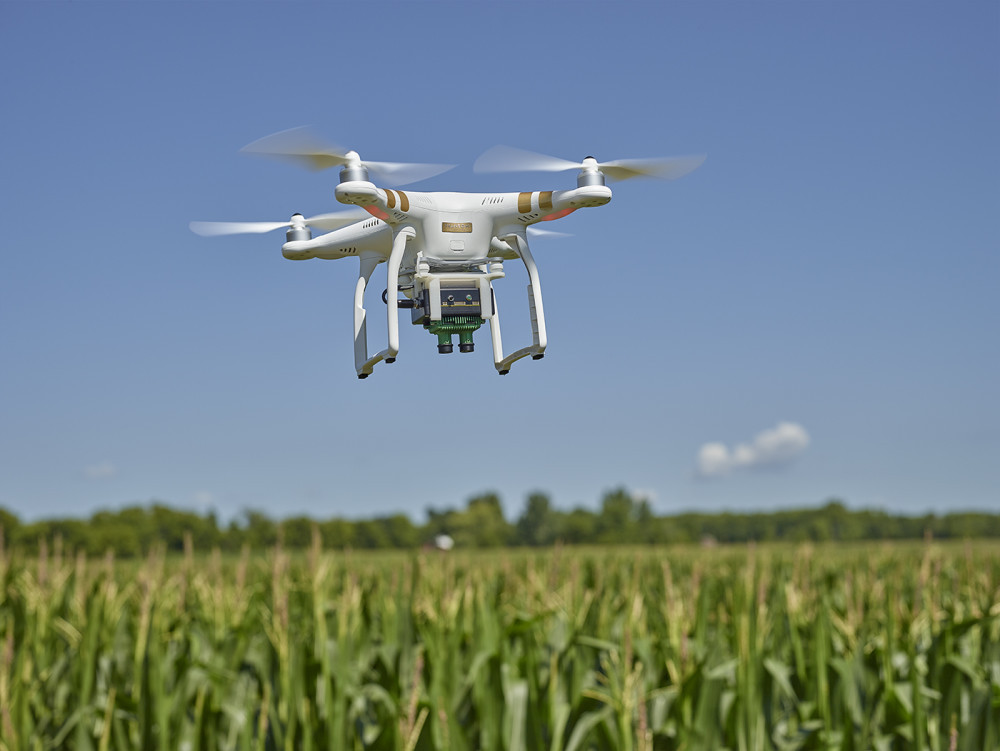drone: (193, 122, 708, 388)
